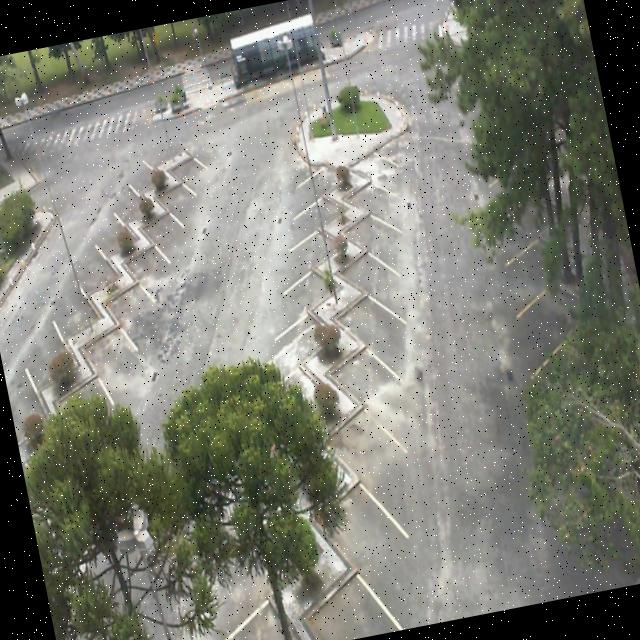empty: (313, 466, 419, 602), (318, 389, 412, 512), (296, 534, 396, 640), (326, 328, 410, 429), (192, 571, 308, 640), (323, 275, 402, 362), (8, 289, 78, 384), (253, 295, 334, 374), (332, 226, 406, 304), (74, 304, 138, 394), (38, 252, 101, 340), (0, 344, 50, 442), (271, 243, 341, 309), (99, 260, 156, 340), (336, 188, 402, 255), (114, 220, 172, 296), (267, 210, 338, 272), (65, 224, 123, 297), (342, 158, 404, 218), (286, 175, 350, 230), (86, 190, 137, 257), (136, 191, 190, 254), (349, 133, 408, 190), (148, 155, 200, 218), (119, 135, 169, 199), (284, 144, 344, 196), (104, 164, 154, 226), (163, 133, 209, 193)
